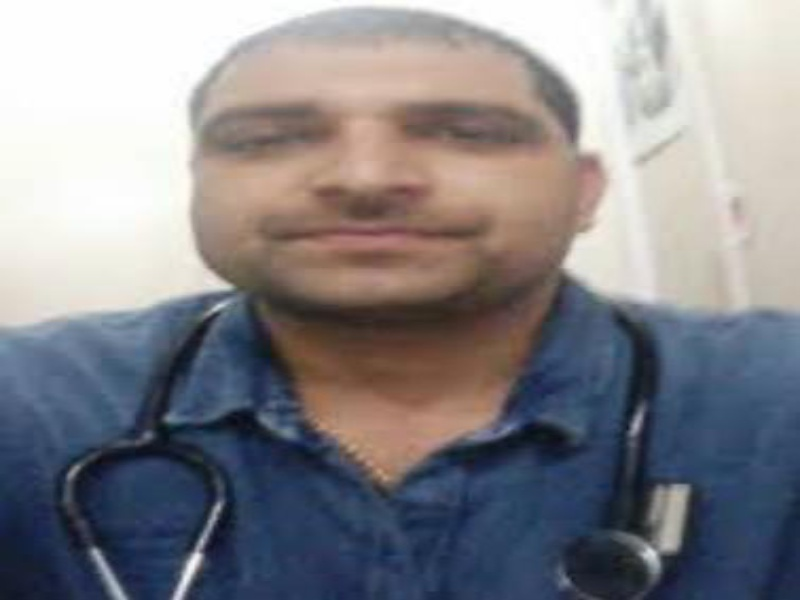TsisyArotava: (177, 8, 622, 341)
